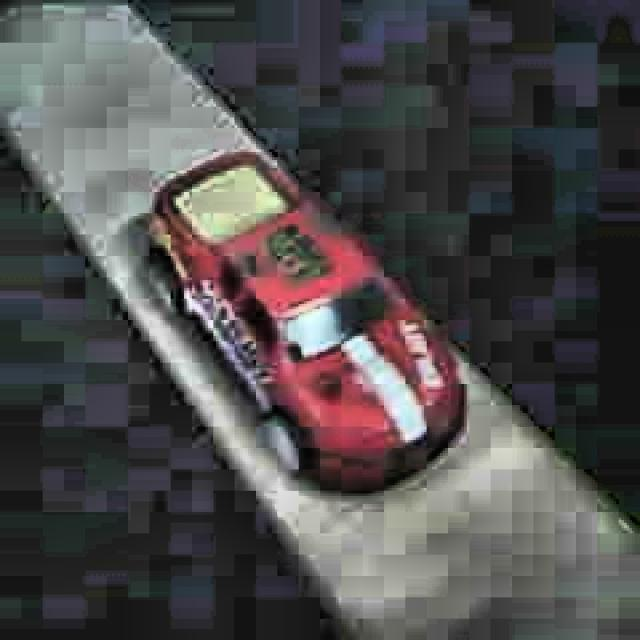car: (140, 146, 472, 503)
